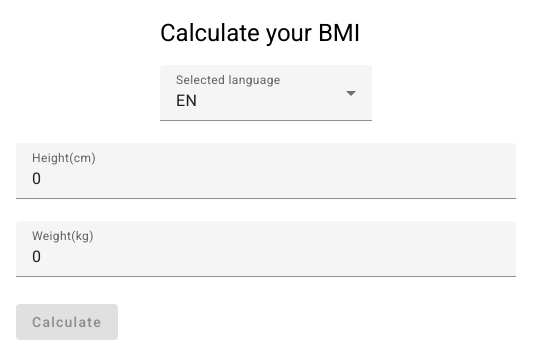
Test: My First Test › should change the language to German
The width and height of the screenshot is (533, 359).
Click the dropdown labelled "EN": (187, 100) x1=176 y1=89 x2=356 y2=113
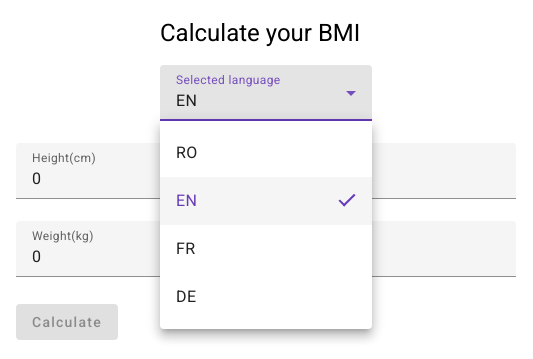
Click the option "DE": (187, 297) x1=176 y1=287 x2=197 y2=306
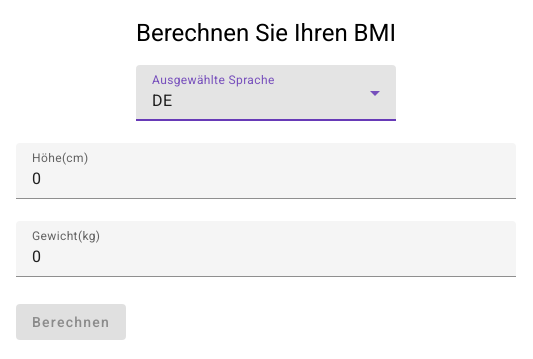
Expected: the heading "Berechnen Sie Ihren BMI" is shown, x1=136 y1=16 x2=396 y2=48
